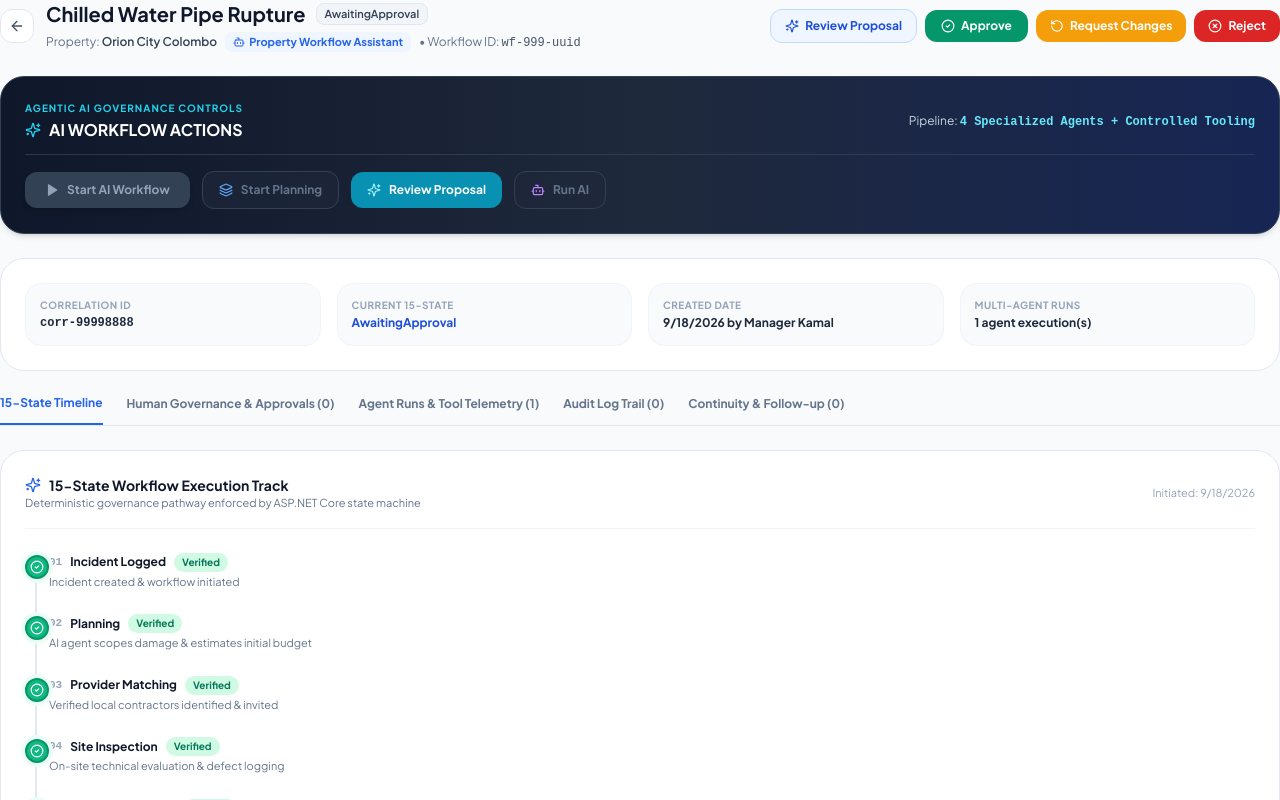
Test: WorkflowDetailPage › validates revision comment when requesting proposal revision
The width and height of the screenshot is (1280, 800).
Expected: the heading "Chilled Water Pipe Rupture" is shown, [46,0,306,28]
Click the button "Request Changes" at (1111, 26), box [1036,10,1186,42]
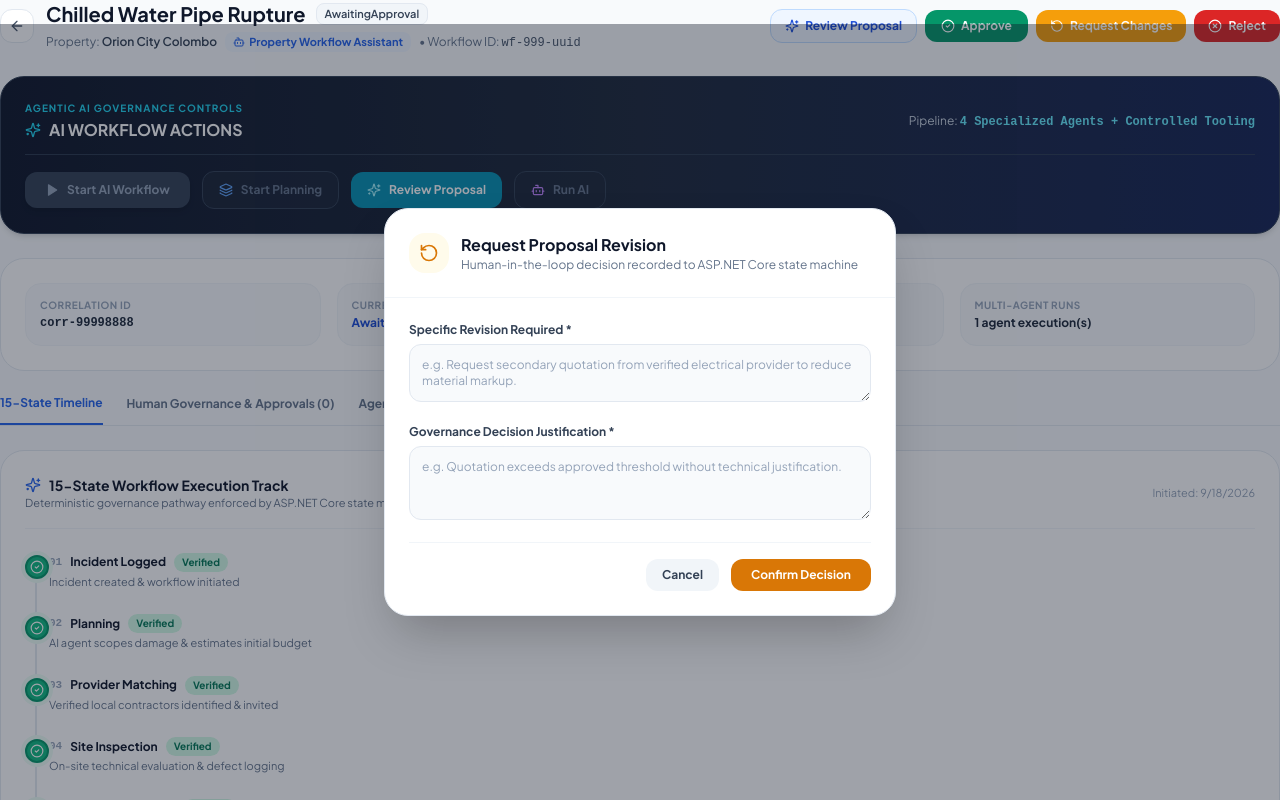
Expected: the heading "Request Proposal Revision" is shown, [461,234,666,255]
# Provide reason but leave revisionComment empty
Replace the text in the text box with placeholder "Quotation exceeds approved threshold" with "Need better parts pricing" at (640, 483), box [409,446,871,520]
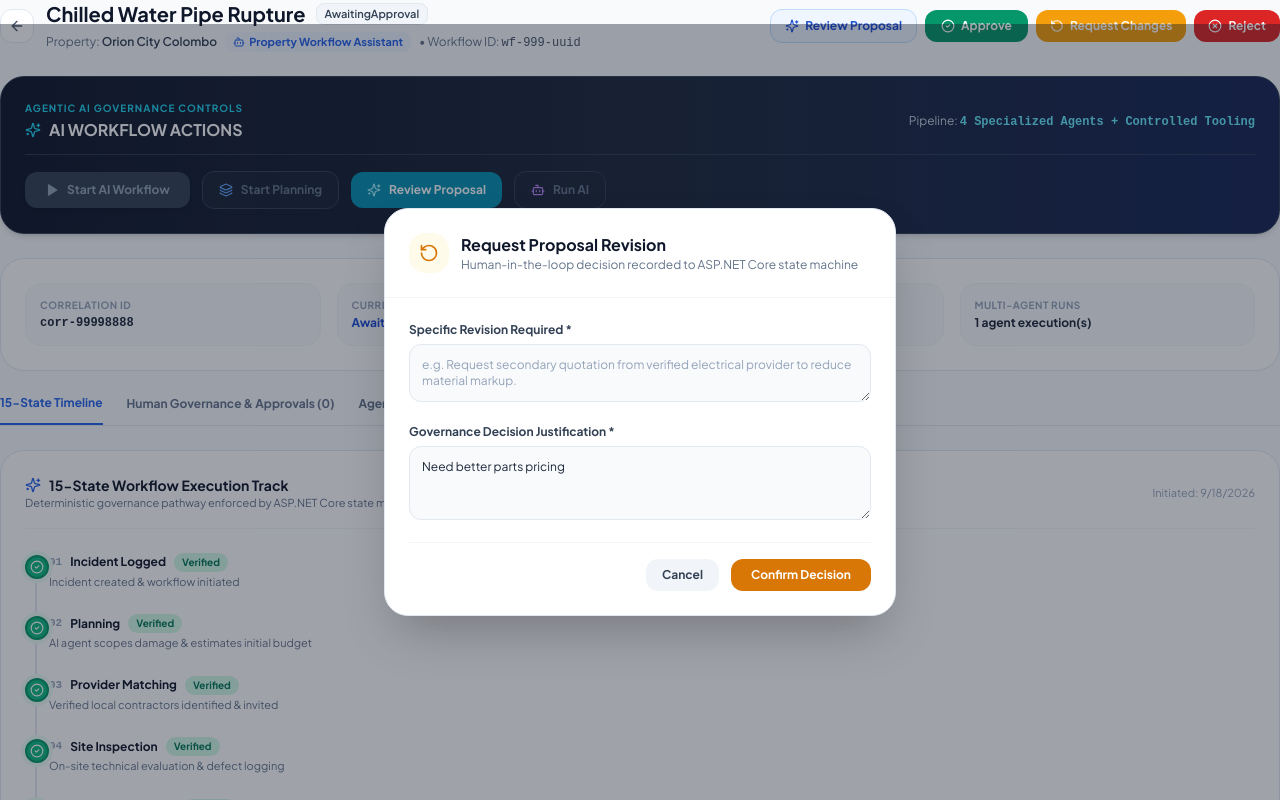
Click the button "Confirm Decision" at (801, 575), box [731,559,871,591]
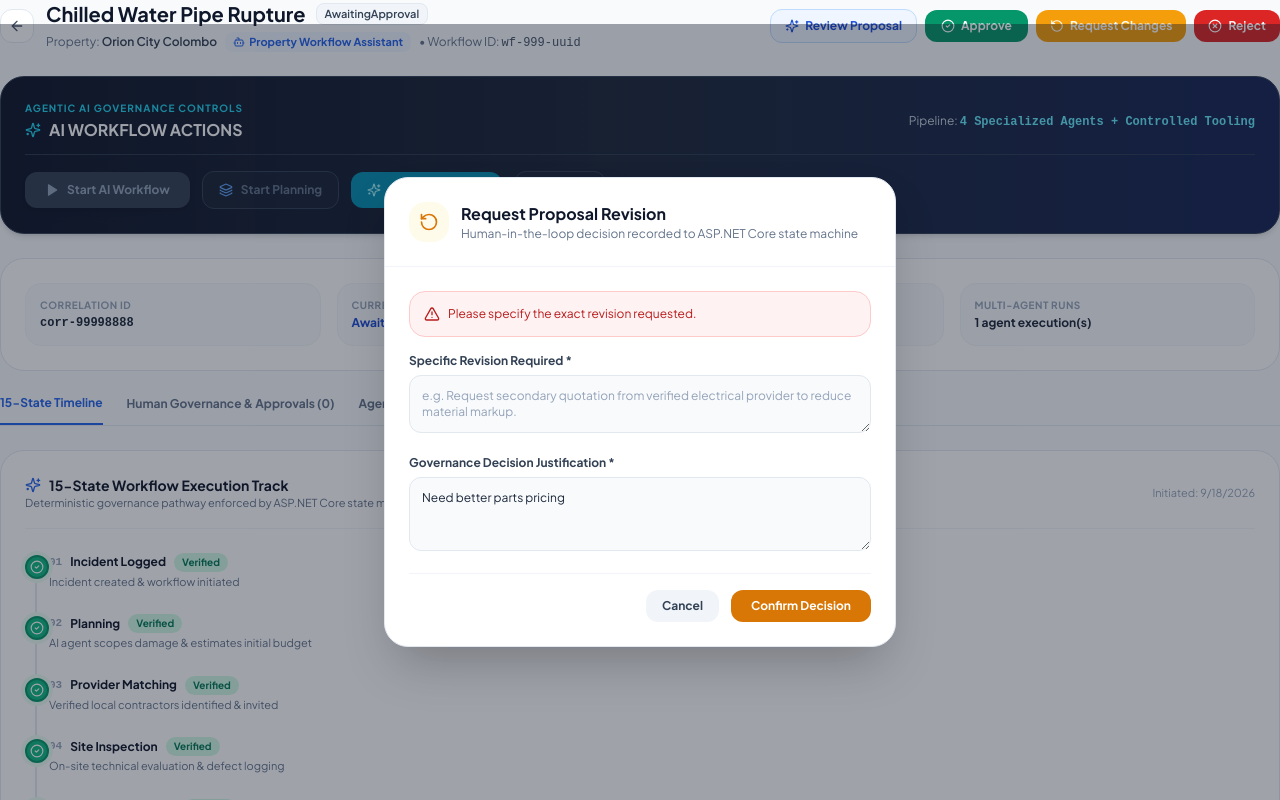
Expected: the text "Please specify the exact revision requested." is shown, [448,306,696,322]
